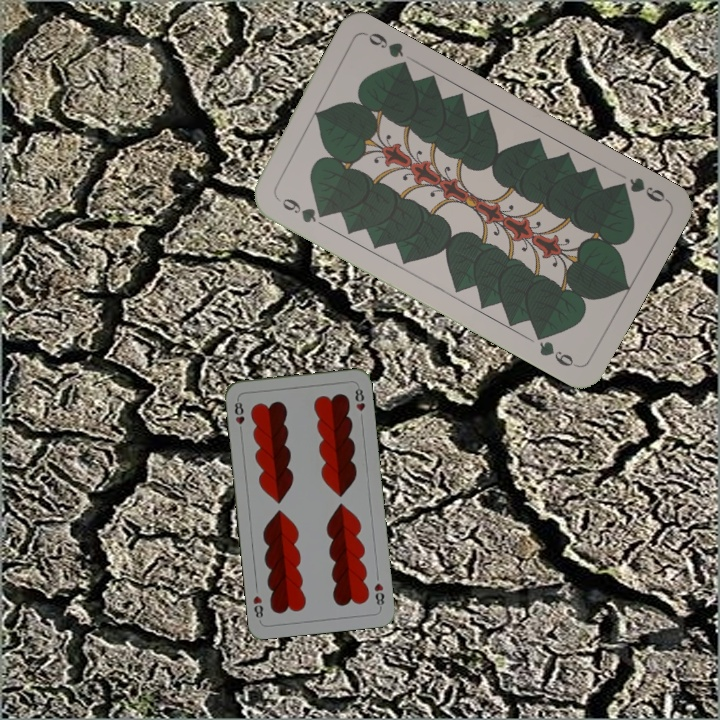G9: (272, 192, 329, 226), (611, 173, 670, 205)
H8: (231, 395, 247, 436), (370, 579, 387, 611)
